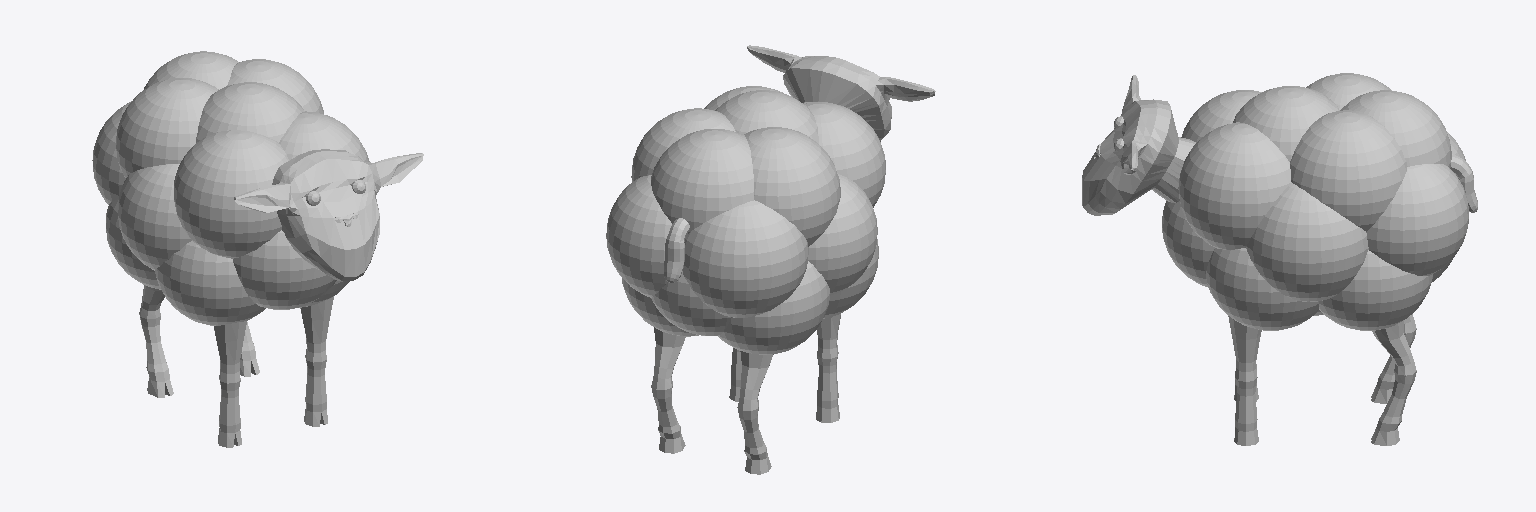
File: Sheep_Sleep_Animation.obj
3 views of the same model, side by side, from view 1: azimuth 30°, elevation 25°; view 2: azimuth 150°, elevation 25°; view 3: azimuth 270°, elevation 25° (orthographic).
Visible parts, largest first — view 1: Cylinder; view 2: Cylinder; view 3: Cylinder.
Part boxes in pixels (bbox=[...]): Cylinder: bbox=[92, 51, 423, 447]; Cylinder: bbox=[606, 45, 935, 474]; Cylinder: bbox=[1082, 73, 1477, 445].
Size of the model in its own units: 3.21 by 4.36 by 4.78.